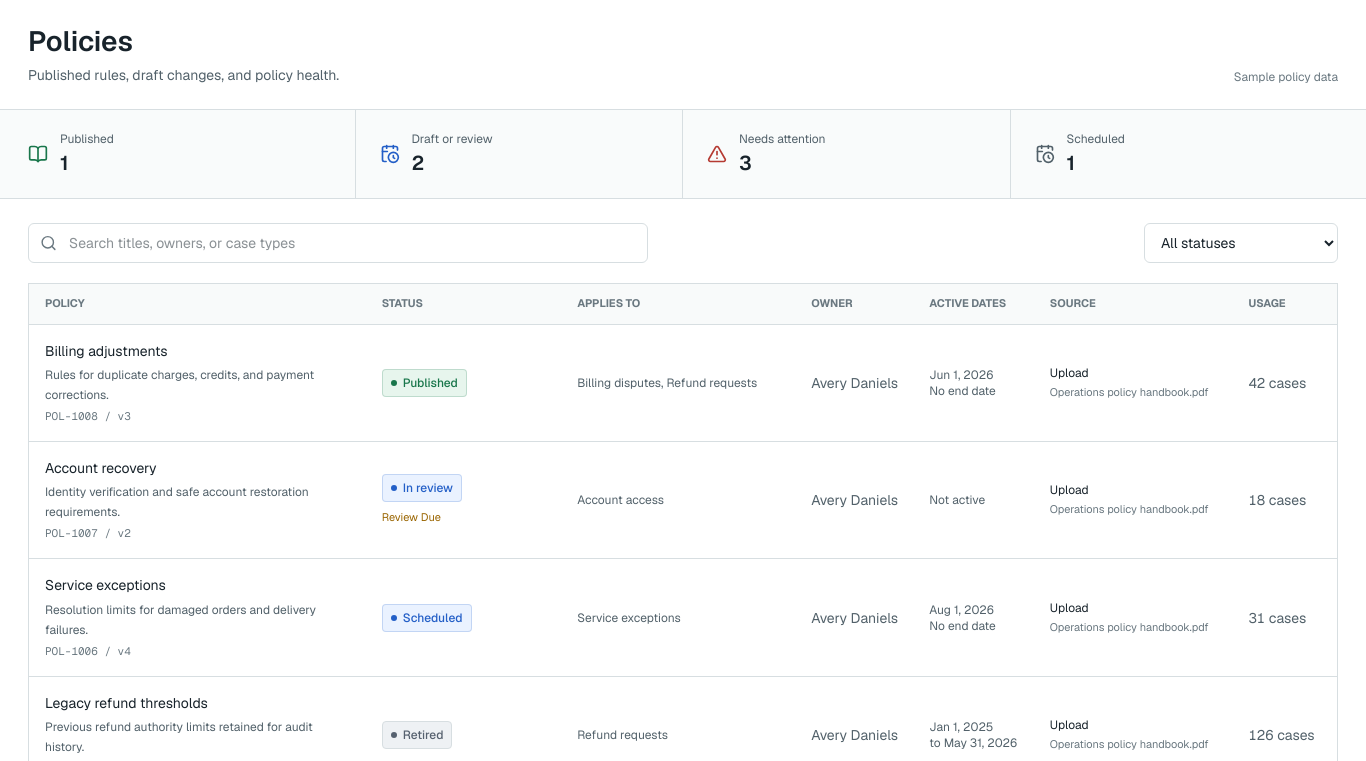
Test: PolicyLibrary › offers a reset when search hides existing policies
Type "does-not-exist" into the field named "Search policies" at (338, 243), box [28,223,648,263]
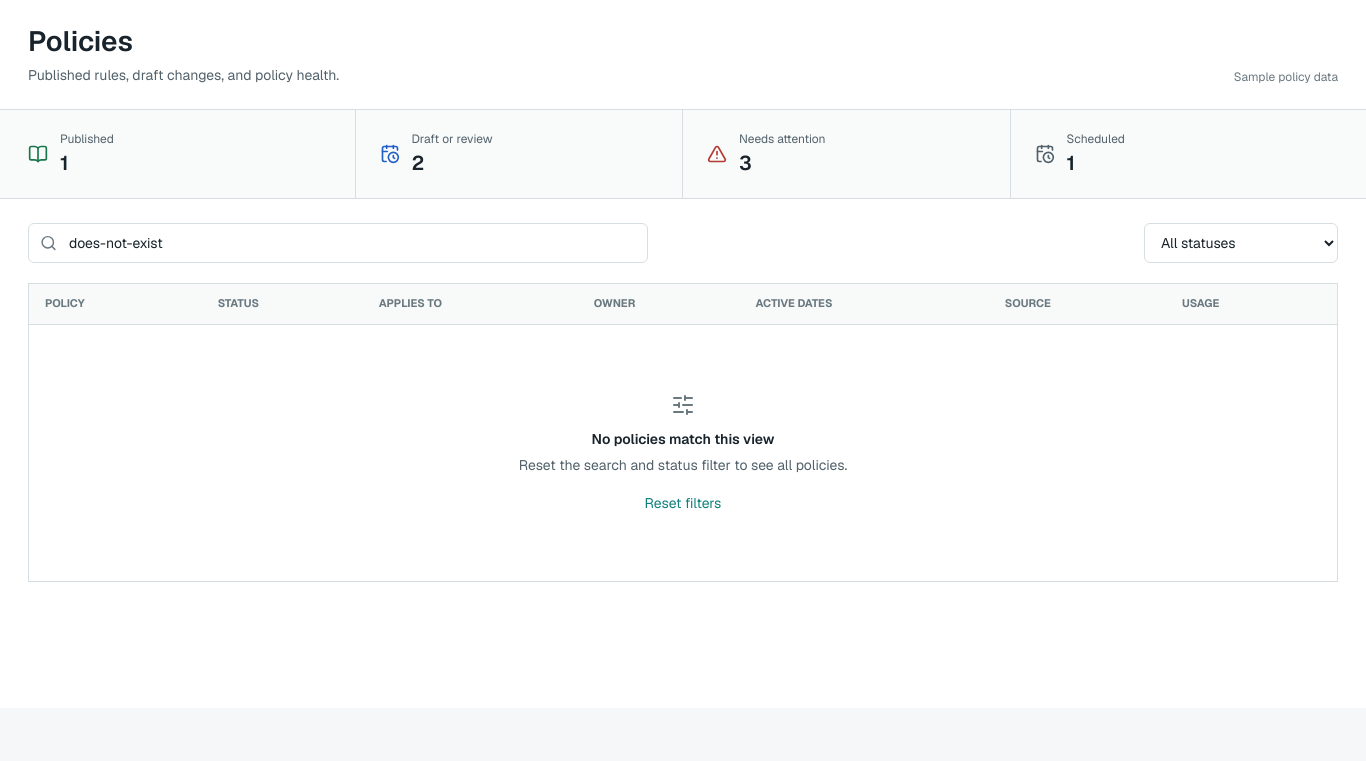
expect the text "No policies match this view" is shown: met, box [592,430,774,448]
expect the button "Reset filters" is shown: met, box [645,493,721,513]
